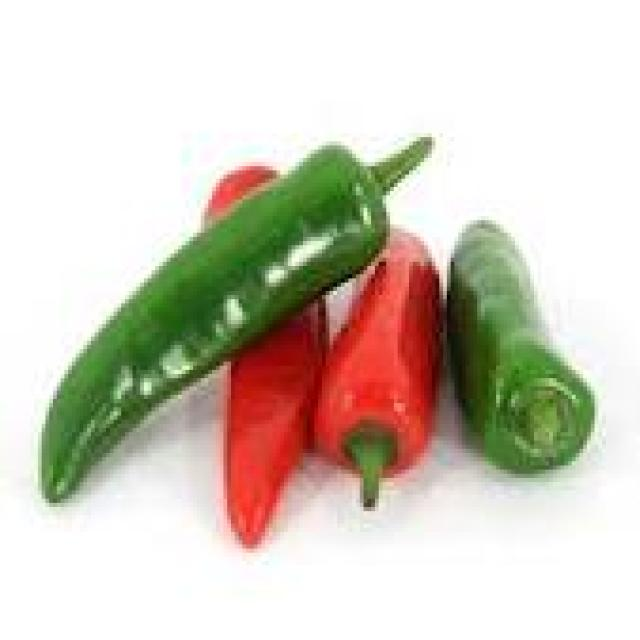chili: (15, 112, 621, 557)
